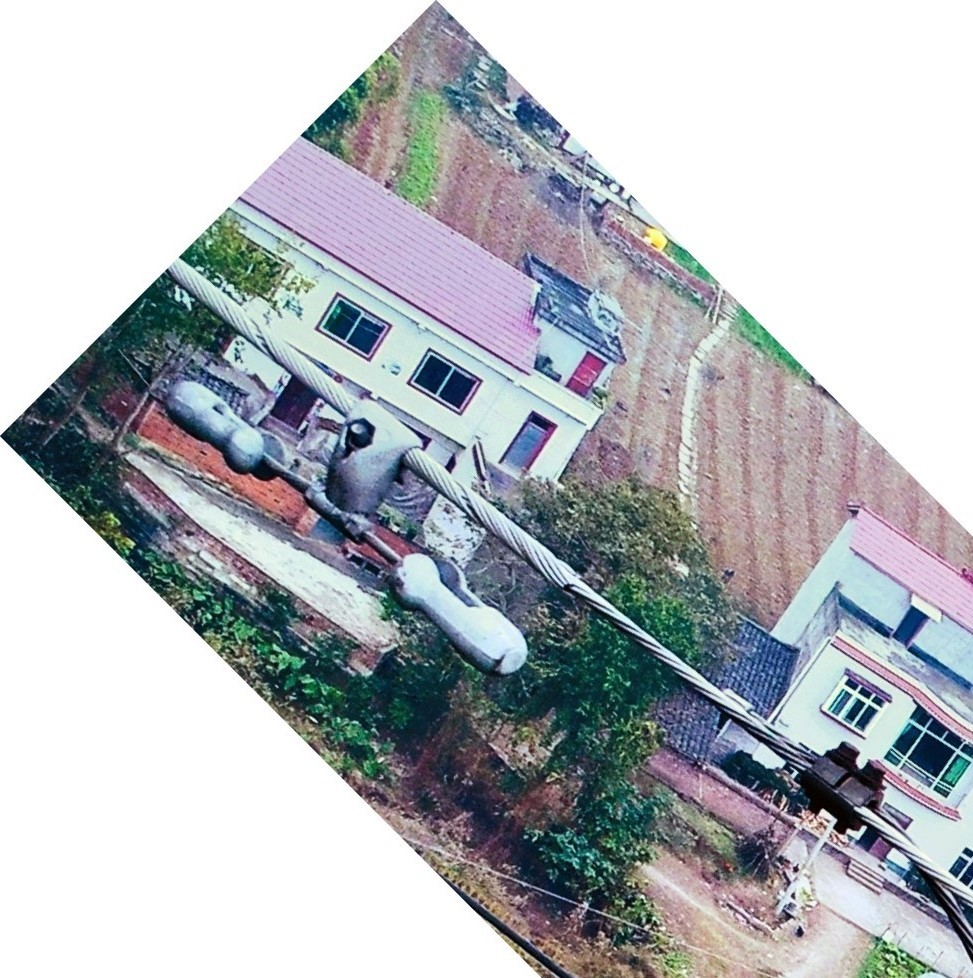Shockproof hammer: (146, 335, 536, 680)
